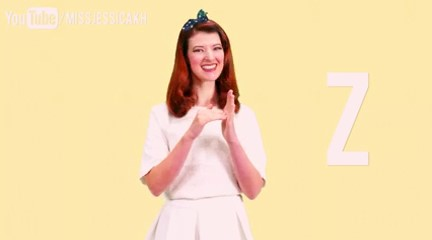Z: (184, 88, 241, 144)
